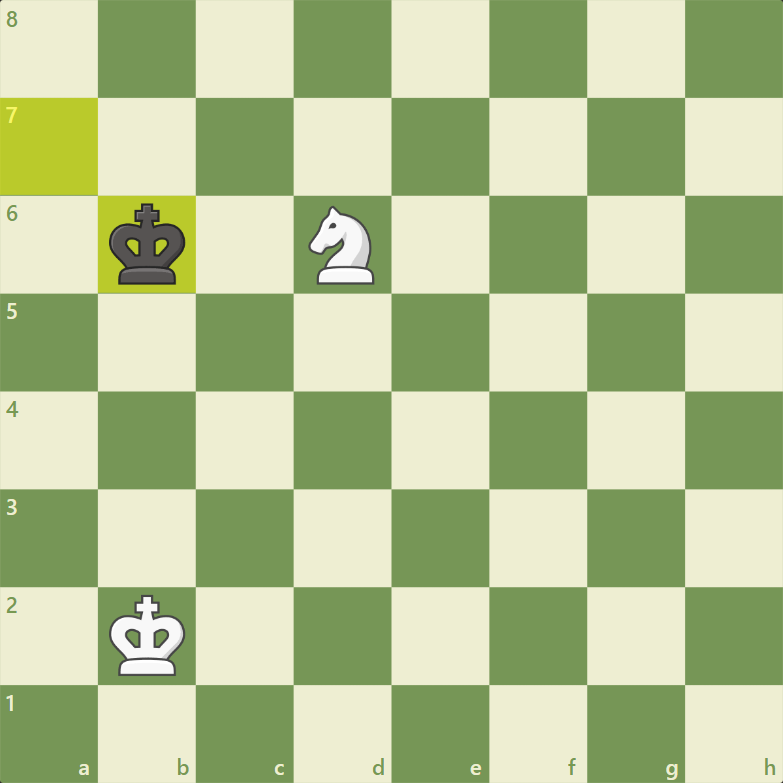K: (107, 591, 188, 678)
N: (305, 203, 380, 287)
k: (105, 201, 188, 288)
